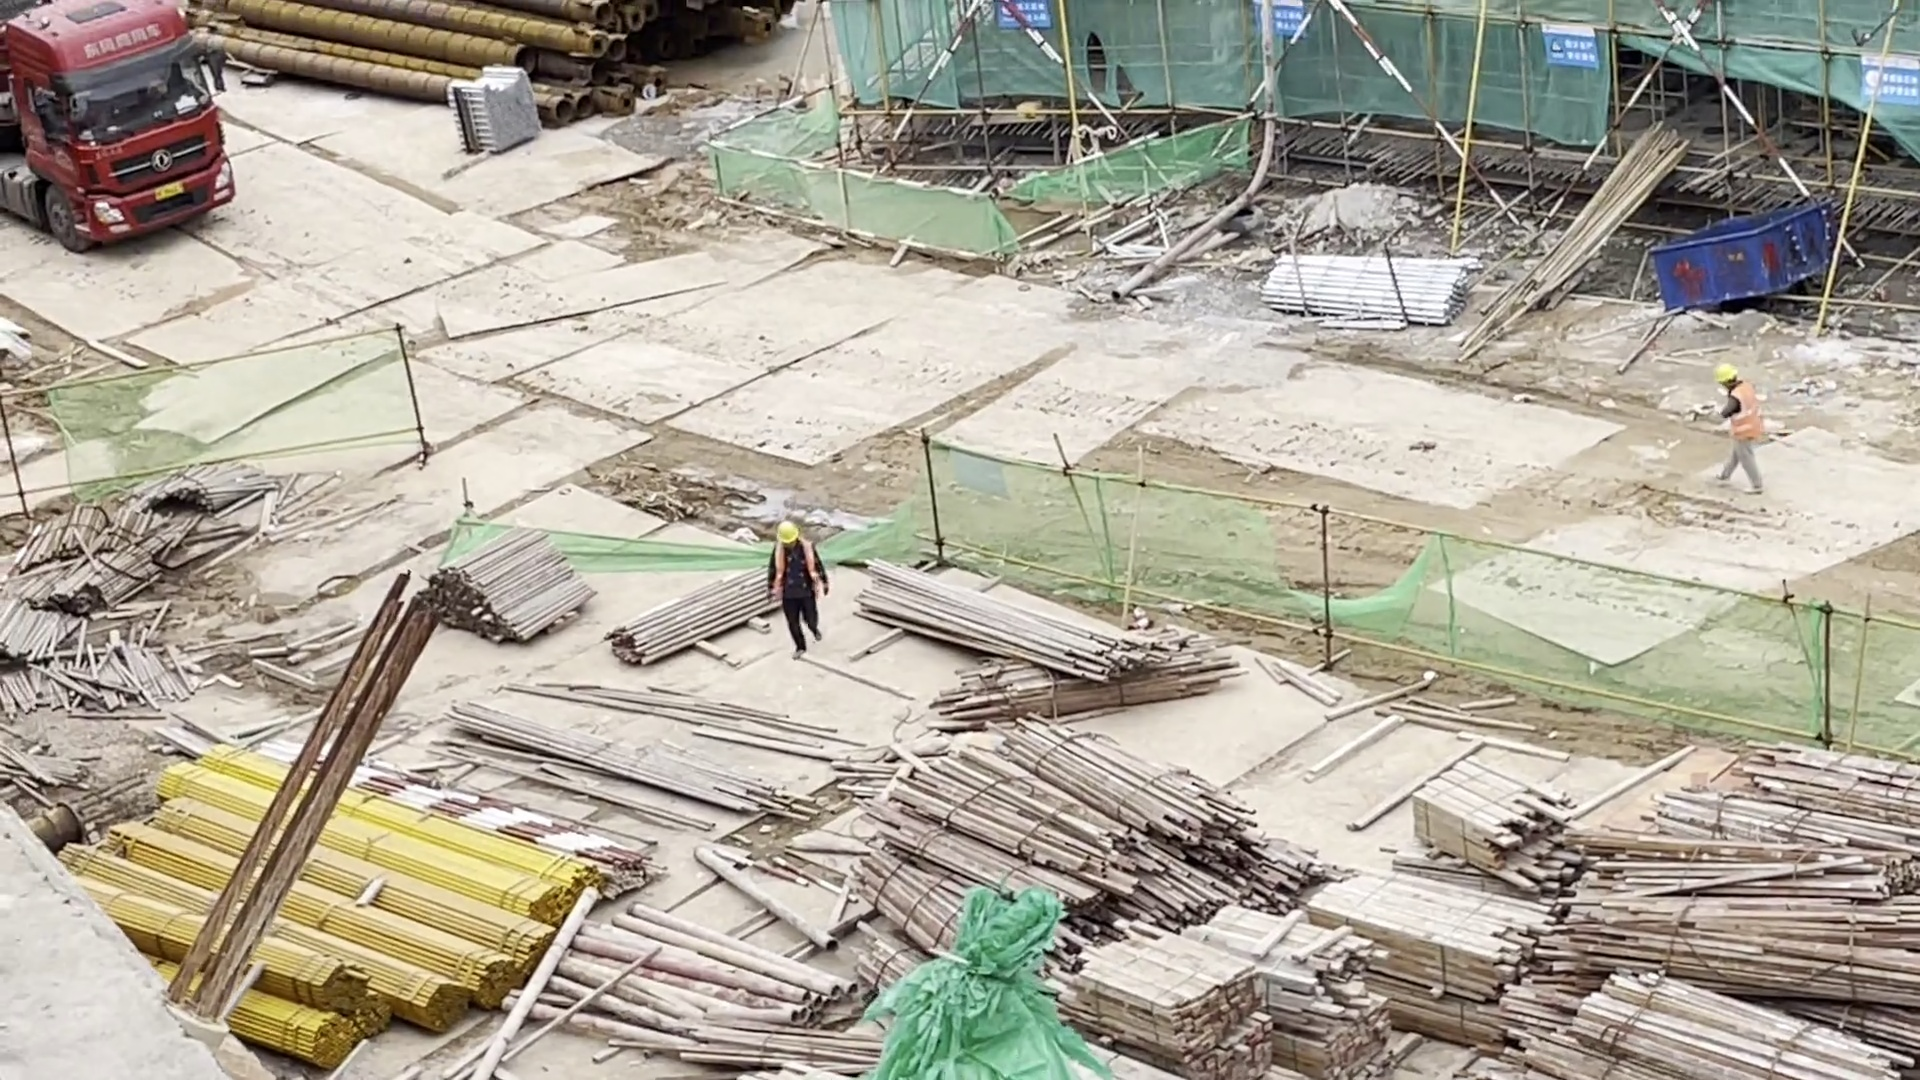brick: (449, 71, 547, 150)
helmet: (1712, 360, 1745, 386), (778, 522, 797, 544)
hopper: (1650, 199, 1831, 318)
person: (766, 519, 833, 658), (1710, 356, 1774, 496)
scaffold: (869, 733, 1296, 915), (882, 548, 1227, 713), (428, 539, 601, 641), (1269, 250, 1473, 331), (15, 512, 178, 604), (626, 581, 764, 651)
vest: (1731, 385, 1765, 443)
wood: (1317, 853, 1539, 1053), (1198, 893, 1393, 1072), (1076, 931, 1277, 1080), (1403, 754, 1568, 874)
